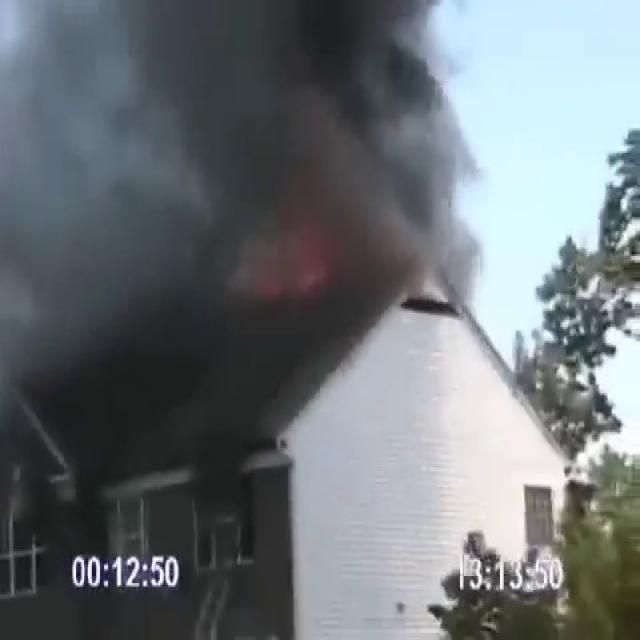Smoke: (0, 0, 493, 354)
